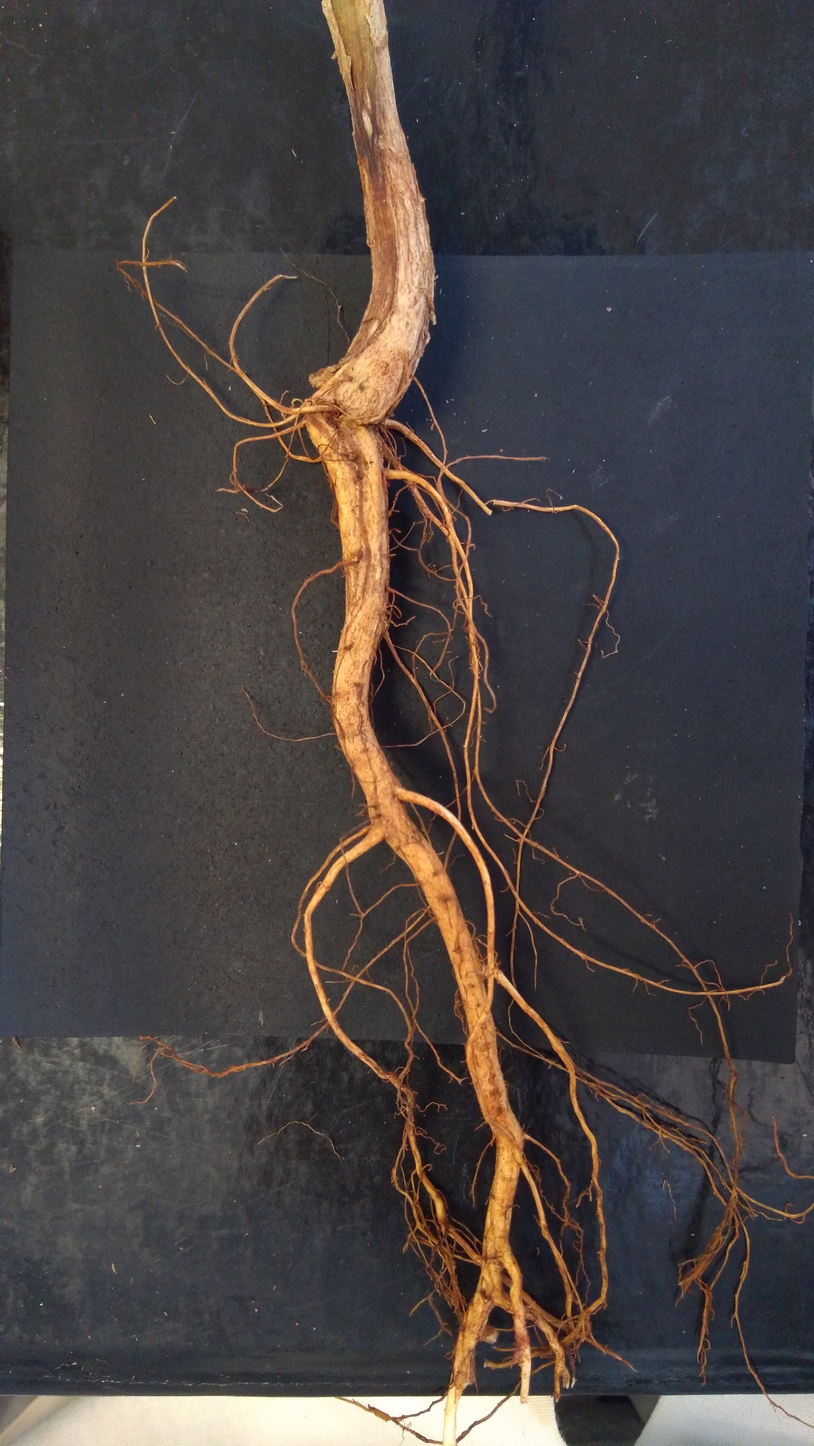nodule: (308, 365, 341, 390), (477, 1322, 500, 1345), (337, 437, 359, 460), (385, 480, 391, 489)
